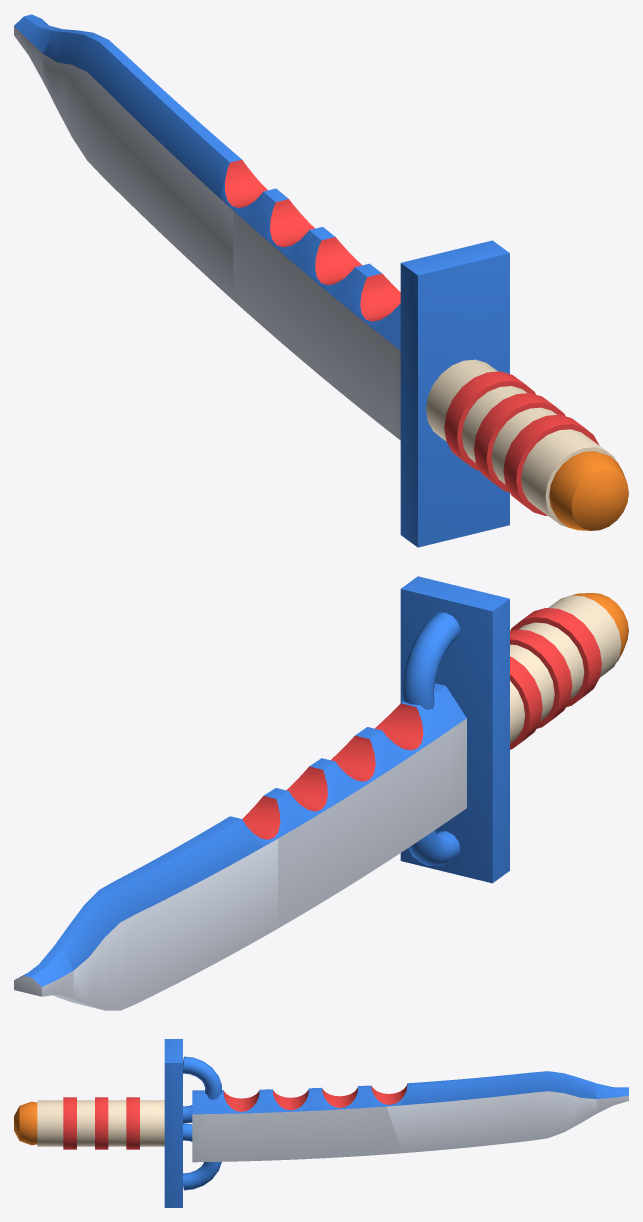
Rendered from Sword_IronjawSaber.glb.
The picture shows the model from 3 angles, top to bottom: view 1: azimuth 30°, elevation 25°; view 2: azimuth 150°, elevation 25°; view 3: azimuth 270°, elevation 25°; orthographic projection. The views are drawn at different scales.
Visible parts, largest first — view 1: Sword_IronjawSaber; view 2: Sword_IronjawSaber; view 3: Sword_IronjawSaber.
Boxes of the visible parts, left/top/right/bottom form: Sword_IronjawSaber: left=14, top=14, right=628, bottom=547; Sword_IronjawSaber: left=14, top=576, right=628, bottom=1010; Sword_IronjawSaber: left=14, top=1039, right=628, bottom=1207.
Size of the model in its own units: 0.092 by 0.26 by 1.
1 material, 1 textured.
